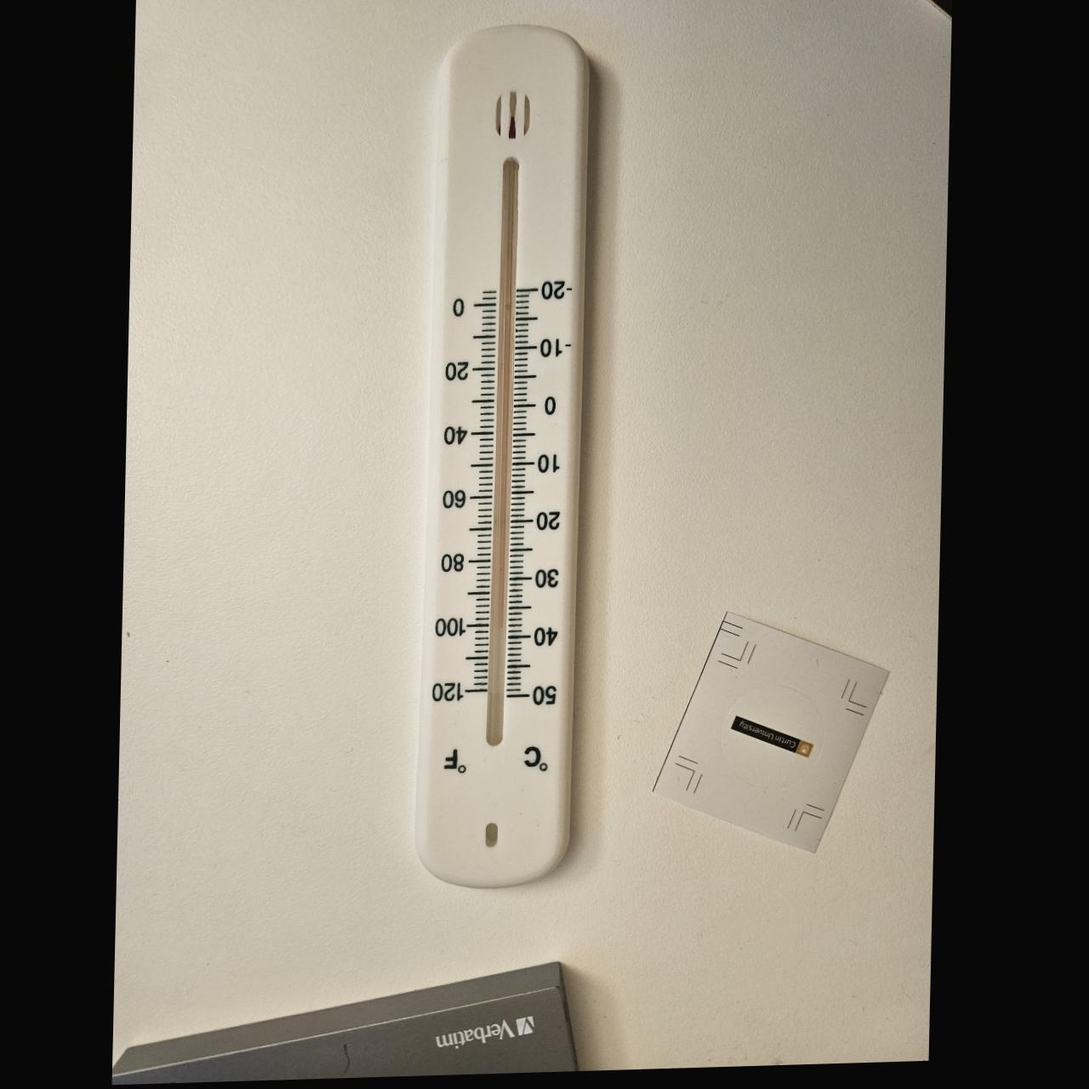thermometer: (414, 22, 590, 892)
